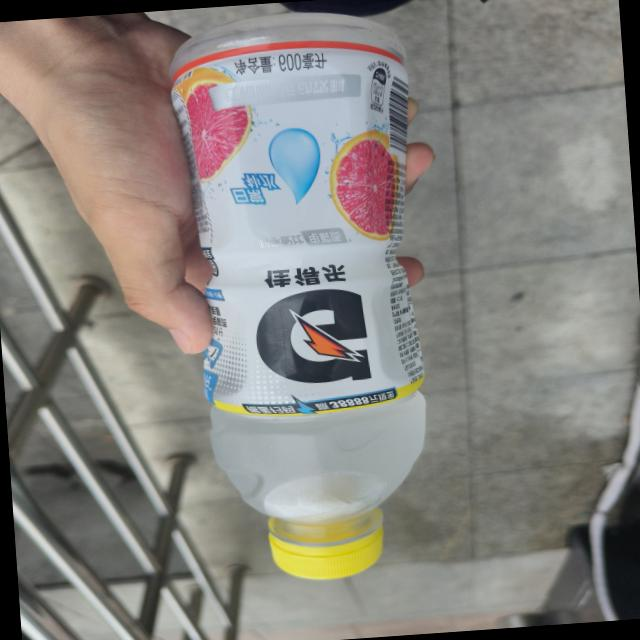bottle: (162, 0, 448, 591)
